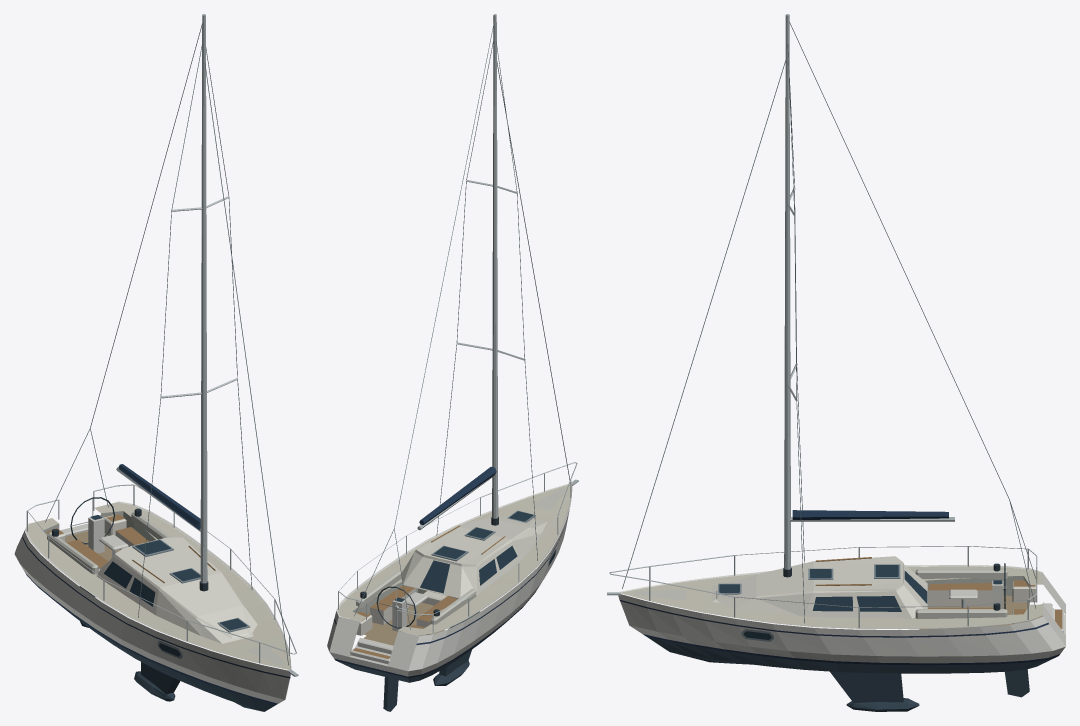
Rendered from kjp_sun_odyssey_36i.glb.
The picture shows the model from 3 angles, left to right: view 1: azimuth 30°, elevation 25°; view 2: azimuth 150°, elevation 25°; view 3: azimuth 270°, elevation 25°; orthographic projection. The views are drawn at different scales.
Visible parts, largest first — view 1: KJP_PlayerSailboat; view 2: KJP_PlayerSailboat; view 3: KJP_PlayerSailboat.
Boxes of the visible parts, left/top/right/bottom form: KJP_PlayerSailboat: left=14, top=14, right=298, bottom=711; KJP_PlayerSailboat: left=327, top=14, right=578, bottom=711; KJP_PlayerSailboat: left=607, top=14, right=1065, bottom=711.
Size of the model in its own units: 3.59 by 18.29 by 10.94.
